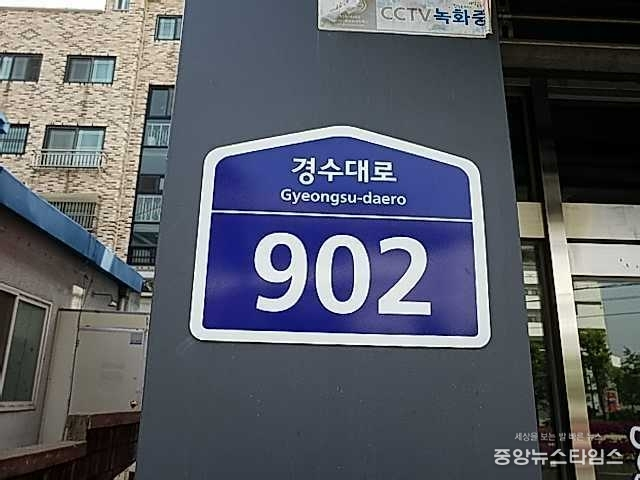building_license_plate1: (190, 124, 491, 349)
